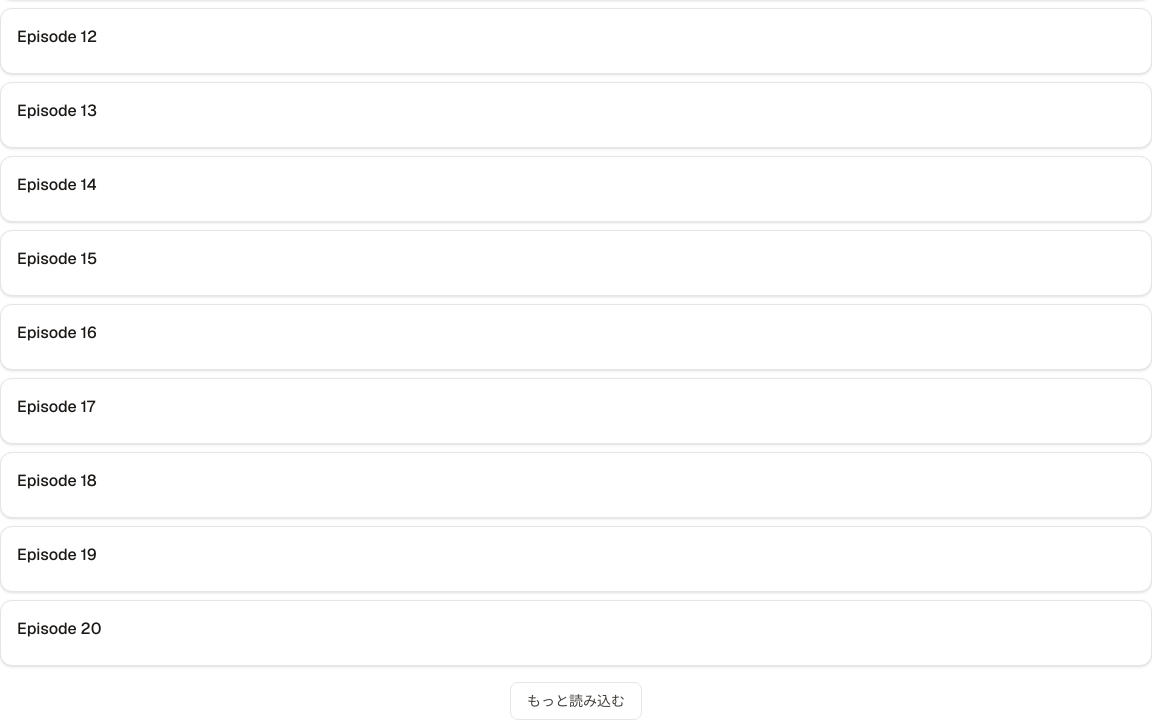
it: EpisodeListClient › loadMore 成功後、全件取得し終えたら「もっと読み込む」ボタンが非表示になる
(page scrolled)
Step 1. Click the button "もっと読み込む" → (576, 701), box x1=510 y1=682 x2=642 y2=719
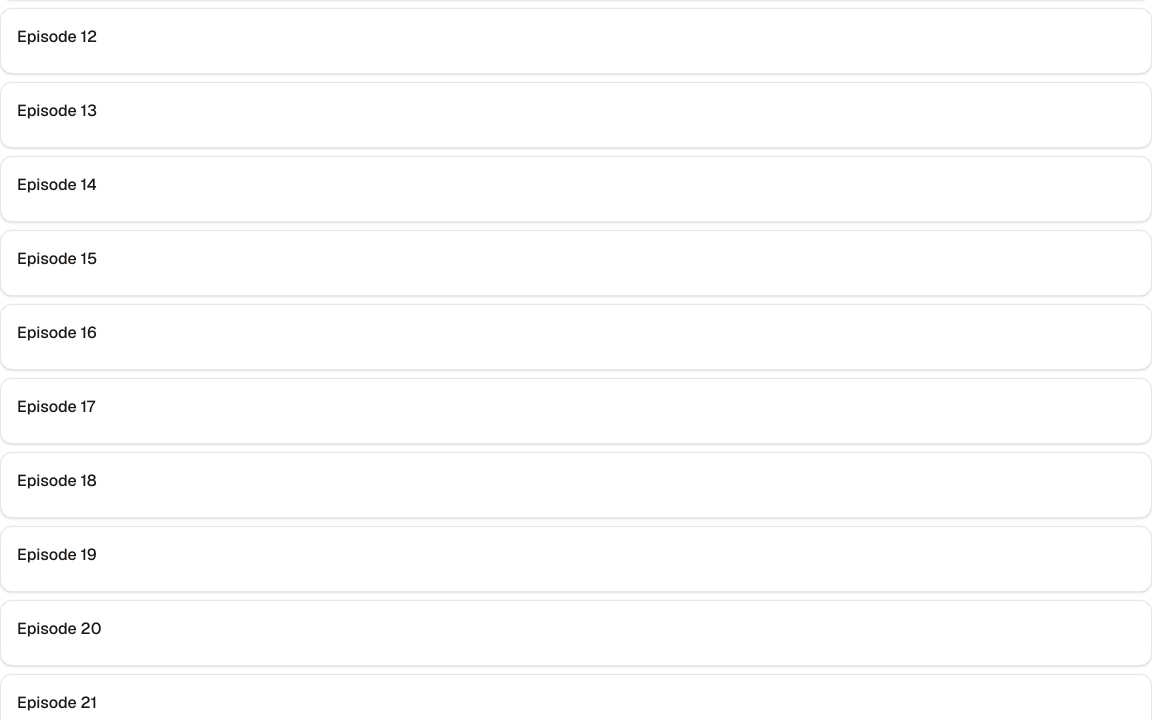
Check: the button "もっと読み込む" is gone
